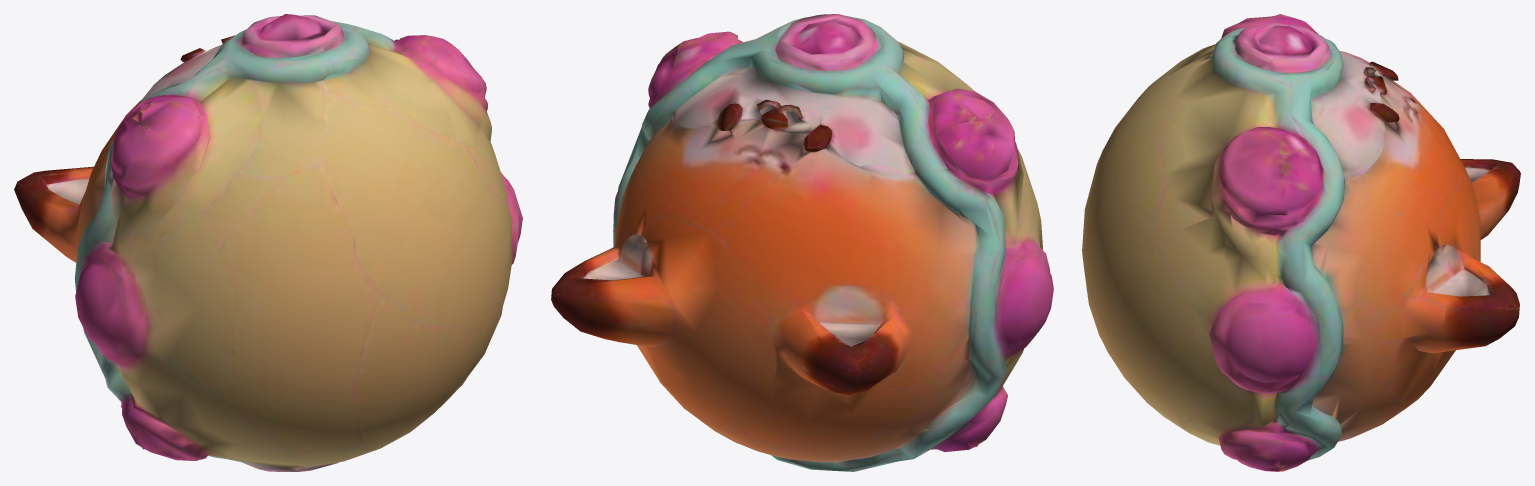
3 renders of one model, left to right at view 1: azimuth 30°, elevation 25°; view 2: azimuth 150°, elevation 25°; view 3: azimuth 270°, elevation 25°, orthographic. The views are drawn at different scales.
Visible parts, largest first — view 1: material; view 2: material; view 3: material.
Part boxes in pixels (x1,y1,x2,y2): material: [14, 14, 522, 471]; material: [551, 14, 1053, 471]; material: [1082, 14, 1520, 471].
Bounding box in the file's own units: 1 × 0.9814 × 0.9343.
1 material, 1 textured.
